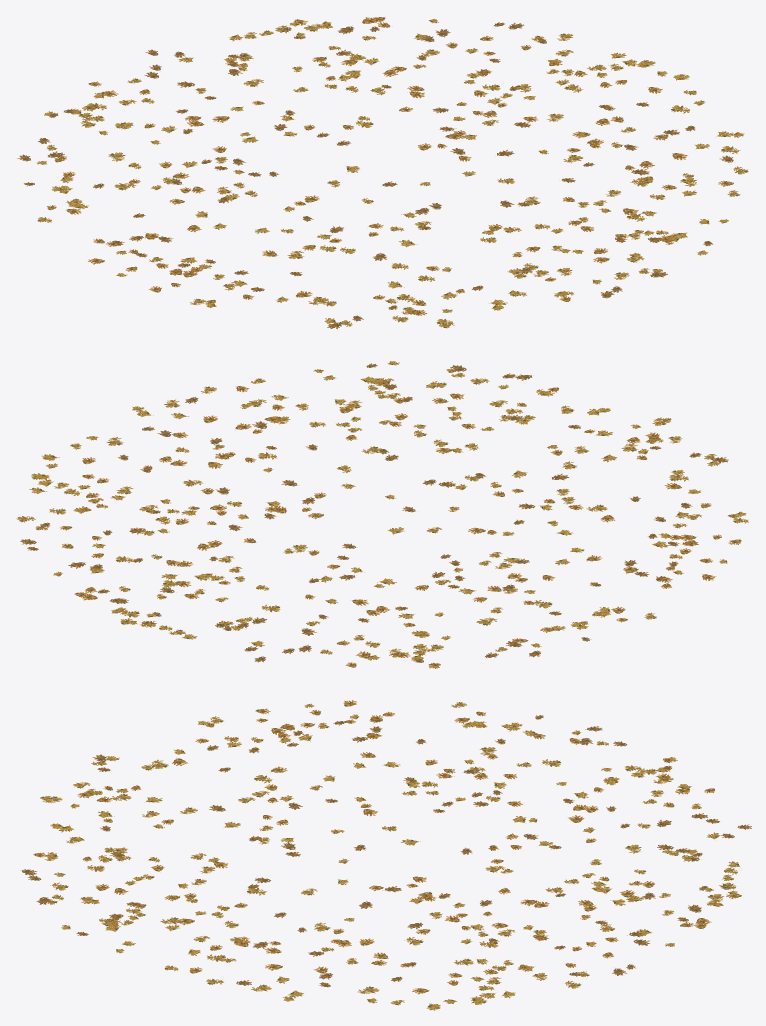
The model's file is chataignier_adulte_a.fbx.
3 renders of one model, top to bottom at view 1: azimuth 30°, elevation 25°; view 2: azimuth 150°, elevation 25°; view 3: azimuth 270°, elevation 25°, orthographic.
Visible parts, largest first — view 1: chataignier_adulte_a_feuilles_sol; view 2: chataignier_adulte_a_feuilles_sol; view 3: chataignier_adulte_a_feuilles_sol.
Part boxes in pixels (x1,y1,x2,y2): chataignier_adulte_a_feuilles_sol: (17,17,748,329); chataignier_adulte_a_feuilles_sol: (16,361,748,668); chataignier_adulte_a_feuilles_sol: (21,700,751,1010).
Size of what is drawn, in the model's own units: 16.38 by 0.00596 by 16.35.
